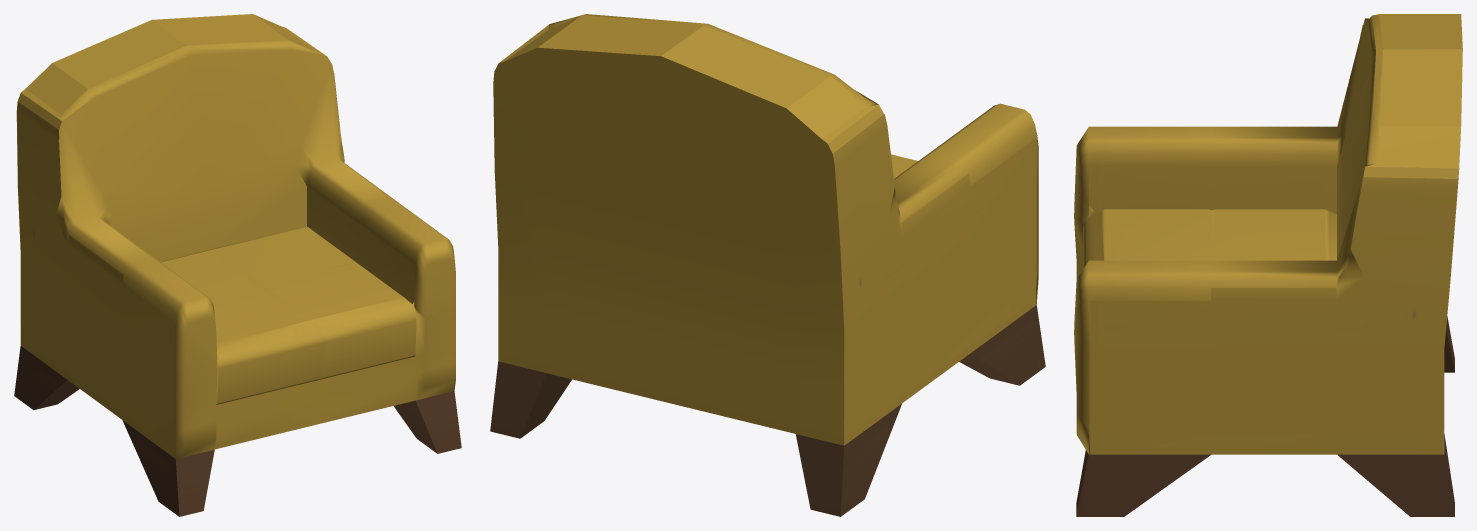
Rendered from chair.fbx.
3 renders of one model, left to right at view 1: azimuth 30°, elevation 25°; view 2: azimuth 150°, elevation 25°; view 3: azimuth 270°, elevation 25°, orthographic. The views are drawn at different scales.
Parts seen in each view (by area): view 1: chair; view 2: chair; view 3: chair.
Boxes of the visible parts, x1=… form: chair: x1=14, y1=14, x2=461, y2=516; chair: x1=490, y1=14, x2=1045, y2=516; chair: x1=1074, y1=14, x2=1462, y2=516.
Bounding box in the file's own units: 2.03 × 2.33 × 2.11.
1 material, 1 textured.
